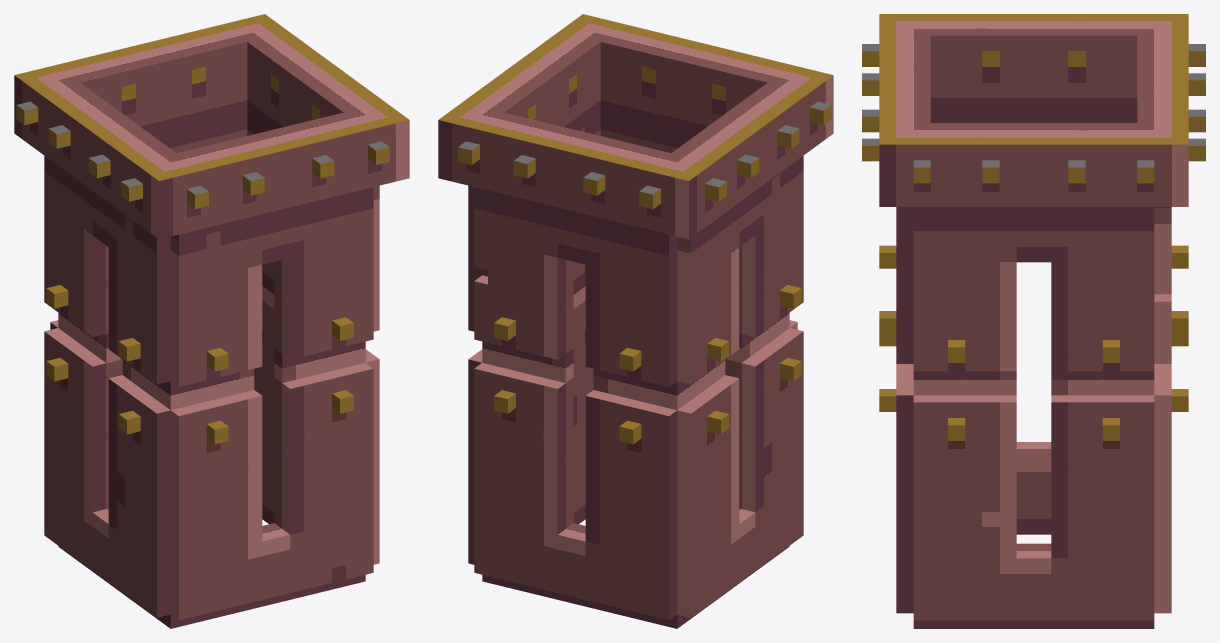
File: jack_caseao.fezao.glb
3 views of the same model, side by side, from view 1: azimuth 30°, elevation 25°; view 2: azimuth 150°, elevation 25°; view 3: azimuth 270°, elevation 25° (orthographic). The views are drawn at different scales.
Visible parts, largest first — view 1: JACK_CASEAO; view 2: JACK_CASEAO; view 3: JACK_CASEAO.
Boxes of the visible parts, x1,y1,x2,y2 form: JACK_CASEAO: [14, 14, 409, 628]; JACK_CASEAO: [438, 14, 833, 628]; JACK_CASEAO: [862, 14, 1205, 628].
Bounding box in the file's own units: 1.25 × 2 × 1.25.
Materials: 1 (1 with a texture image).
